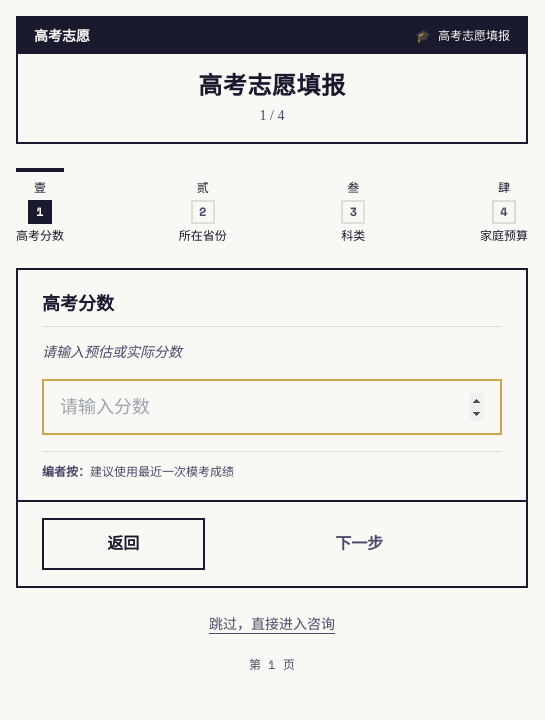
Test case: SoulQuestionForm › renders subject radio group on step 3
Step 1: score
Type "600" into the number field labelled "高考分数". click: coordinates (272, 407)
box: [42,379,502,435]
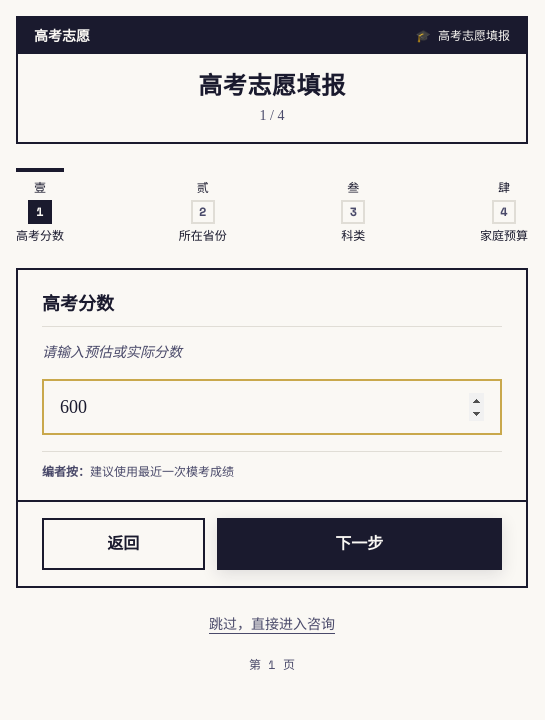
Click the button "下一步". click: coordinates (359, 544)
box: [217,518,502,570]
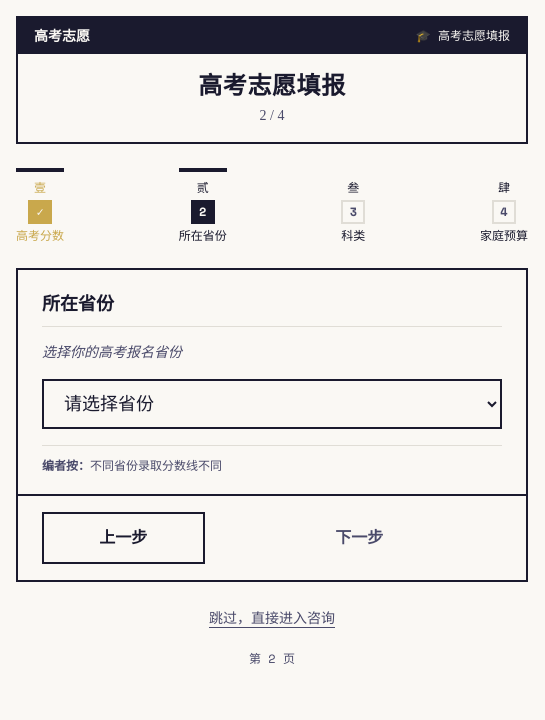
expect the dropdown named "所在省份" is shown: met
Select "北京" in the dropdown named "所在省份". click: coordinates (272, 404)
box: [42,379,502,429]
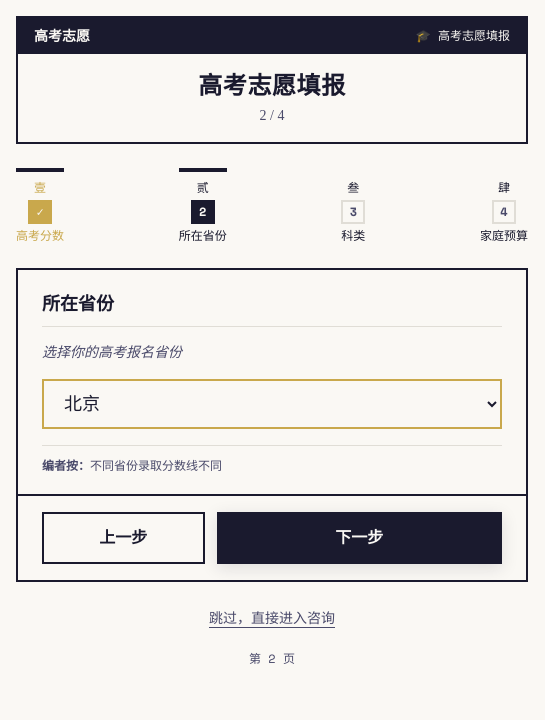
Click the button "下一步". click: coordinates (359, 538)
box: [217,512,502,564]
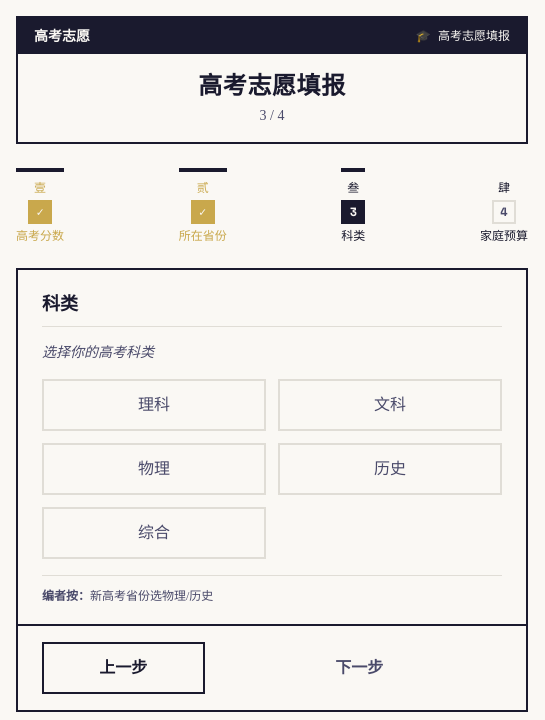
expect the element named "科类" is shown: met, box [42,379,502,559]
